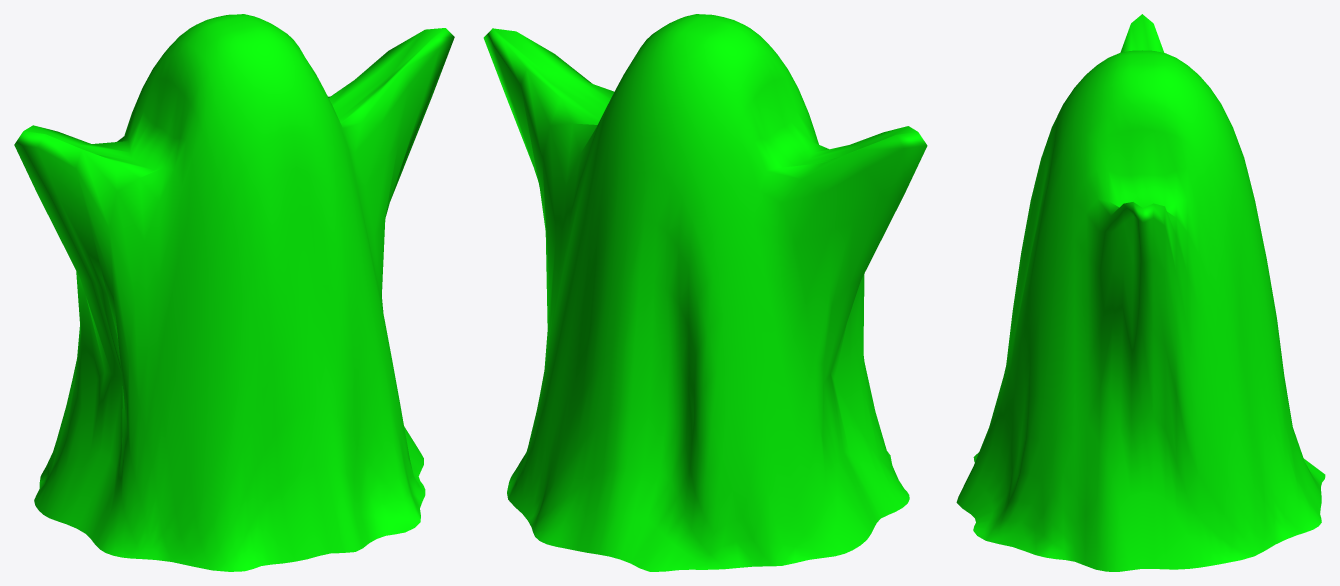
Rendered from fantome.fbx.
3 renders of one model, left to right at view 1: azimuth 30°, elevation 25°; view 2: azimuth 150°, elevation 25°; view 3: azimuth 270°, elevation 25°, orthographic. The views are drawn at different scales.
Parts seen in each view (by area): view 1: Fantôme; view 2: Fantôme; view 3: Fantôme.
Part boxes in pixels (x1,y1,x2,y2): Fantôme: [14, 14, 454, 571]; Fantôme: [483, 14, 927, 571]; Fantôme: [956, 14, 1325, 571].
Bounding box in the file's own units: 2.52 × 2.53 × 1.94.
